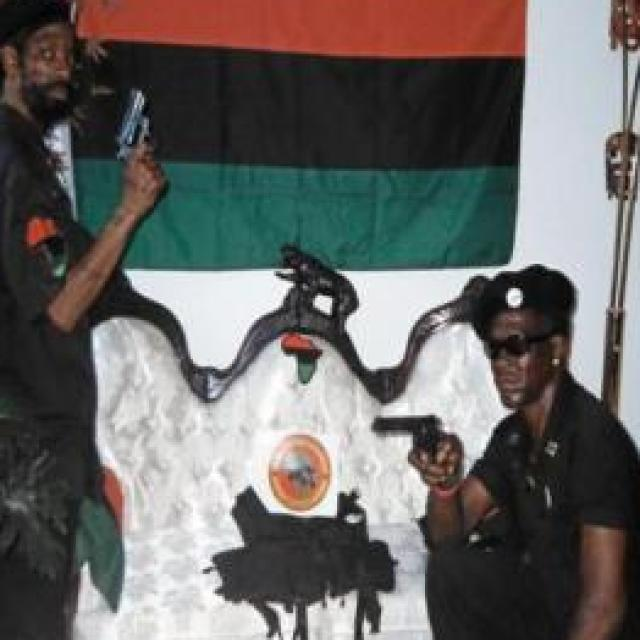pistol: (110, 88, 165, 162), (372, 413, 444, 468)
